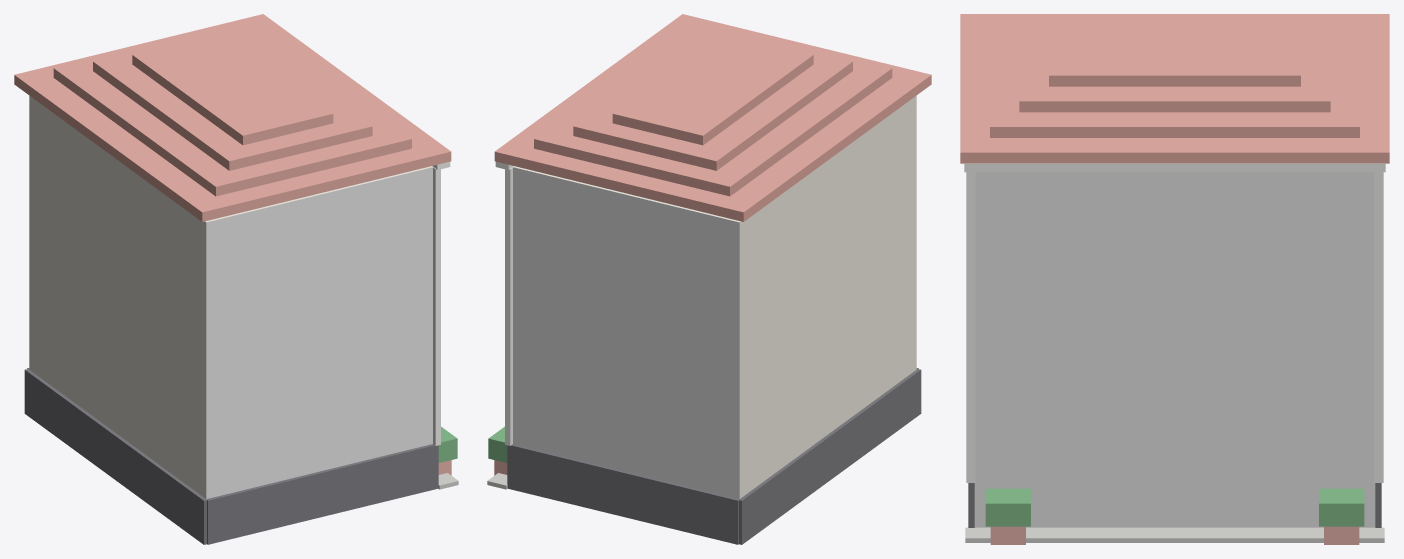
Rendered from FShop_Tall.fbx.
The picture shows the model from 3 angles, left to right: view 1: azimuth 30°, elevation 25°; view 2: azimuth 150°, elevation 25°; view 3: azimuth 270°, elevation 25°; orthographic projection. The views are drawn at different scales.
Parts seen in each view (by area): view 1: FShop_Tall; view 2: FShop_Tall; view 3: FShop_Tall.
Boxes of the visible parts, x1,y1,x2,y2 form: FShop_Tall: (14,14,458,544); FShop_Tall: (487,14,931,544); FShop_Tall: (960,14,1389,544).
Size of the model in its own units: 6.95 by 9.13 by 8.5.
